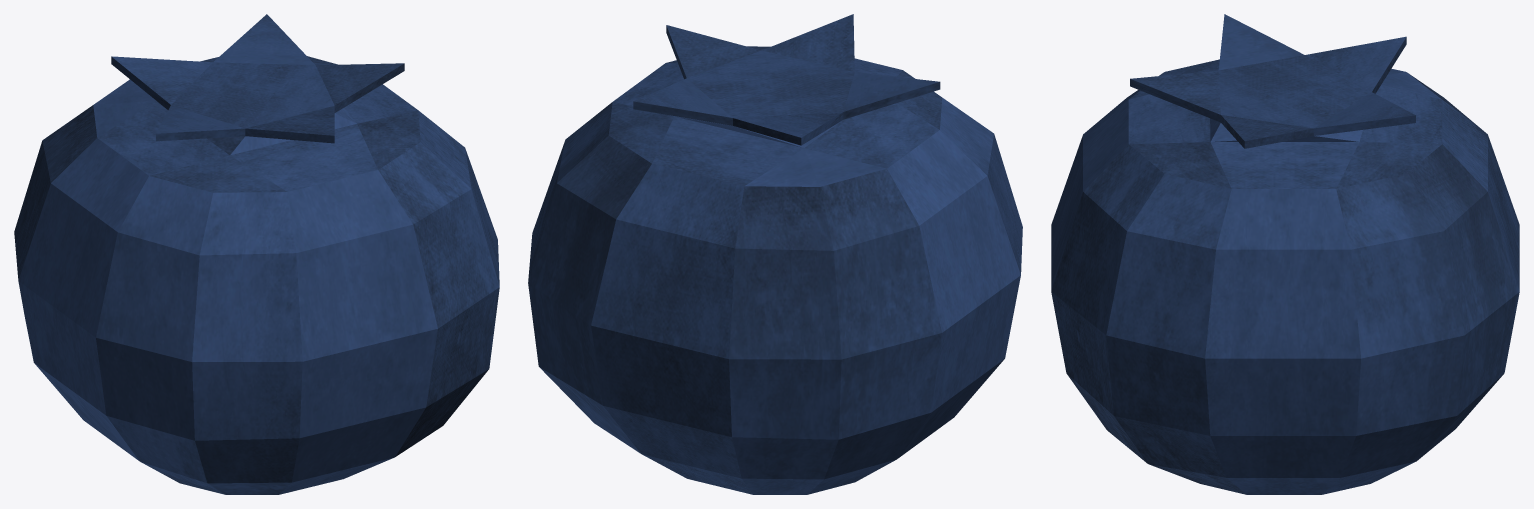
File: Blueberry.fbx
3 renders of one model, left to right at view 1: azimuth 30°, elevation 25°; view 2: azimuth 150°, elevation 25°; view 3: azimuth 270°, elevation 25°, orthographic.
Visible parts, largest first — view 1: Arandano; view 2: Arandano; view 3: Arandano.
Part boxes in pixels (left/top/right/bottom): Arandano: left=14, top=14, right=499, bottom=494; Arandano: left=528, top=14, right=1022, bottom=494; Arandano: left=1051, top=14, right=1519, bottom=494.
Size of the model in its own units: 77.21 by 67.24 by 77.35.
1 material, 1 textured.
